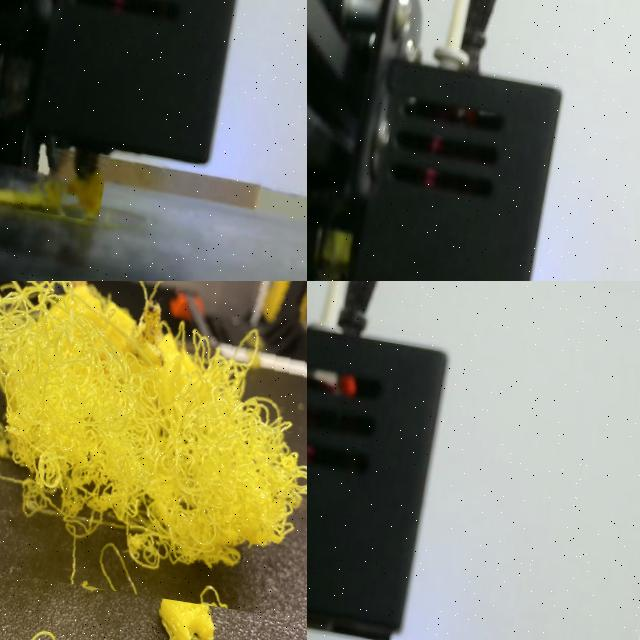spaghetti: (0, 281, 307, 620), (0, 157, 104, 222)
